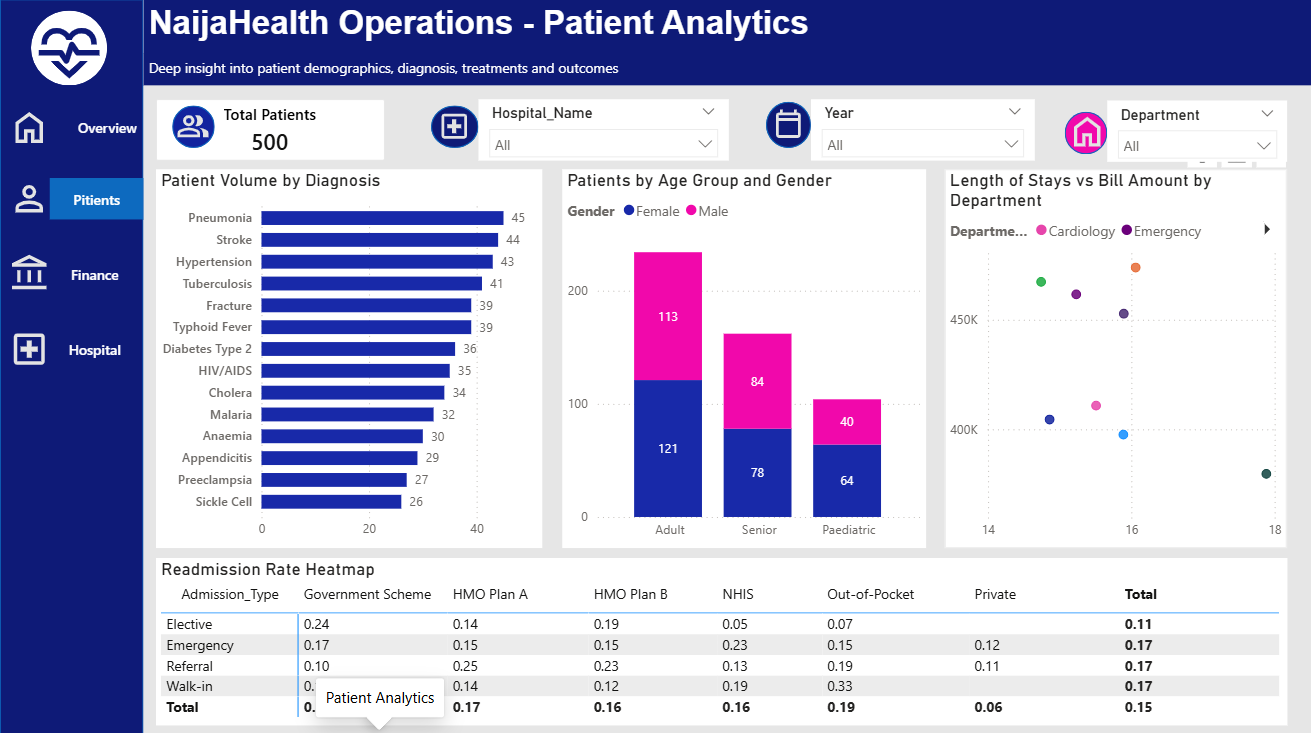

What the dashboard file says about the page in this screenshot:
{"tool":"powerbi","page":{"name":"Patient Analytics","canvas":[1280,720],"ordinal":1},"visuals":[{"type":"textbox","box":[152,10.9,1128,51.9],"z":0},{"type":"shape","box":[13.3,10.9,138.7,709.4],"z":1000},{"type":"shape","box":[43.4,21.7,73.6,72.4],"z":2000},{"type":"image","box":[48.3,16.9,63.9,91.7],"z":3000},{"type":"textbox","box":[152,62.7,1128,31.4],"z":4000},{"type":"actionButton","box":[61.5,183.4,90.5,39.8],"z":5000},{"type":"actionButton","box":[61.5,255.8,86.9,39.8],"z":6000},{"type":"actionButton","box":[61.5,324.5,86.9,48.3],"z":7000},{"type":"image","box":[21.7,114.6,39.8,39.8],"z":8000},{"type":"image","box":[21.7,183.4,39.8,39.8],"z":9000},{"type":"image","box":[21.7,324.5,39.8,48.3],"z":10000},{"type":"image","box":[21.7,255.8,39.8,39.8],"z":11000},{"type":"clusteredBarChart","title":"Patient Volume by Diagnosis","fields":{"Category":["Patient_Records.Diagnosis"],"Y":["CountNonNull(Patient_Records.Patient_ID)"]},"box":[164.1,174.9,372.8,365.6],"z":12000},{"type":"columnChart","title":"Patients by Age Group and Gender","fields":{"Category":["Patient_Records.Age_Group"],"Series":["Patient_Records.Gender"],"Y":["CountNonNull(Patient_Records.Patient_ID)"]},"box":[556.2,174.9,351.1,365.6],"z":13000},{"type":"scatterChart","title":"Length of Stays vs Bill Amount by Department","fields":{"X":["Avg(Patient_Records.Length_of_Stay_Days)"],"Y":["Avg(Patient_Records.Bill_Amount_NGN)"],"Series":["Patient_Records.Department"],"Category":["Patient_Records.Department"]},"box":[925.3,174.9,330.6,365.6],"z":14000},{"type":"pivotTable","title":"Readmission Rate Heatmap","fields":{"Rows":["Patient_Records.Admission_Type"],"Columns":["Patient_Records.Insurance_Provider"],"Values":["> Measures.Readmission Rate"]},"box":[164.1,550.1,1091.8,161.7],"z":15000},{"type":"actionButton","box":[73.6,114.6,86.9,39.8],"z":16000},{"type":"slicer","fields":{"Values":["Hospital.Hospital_Name"]},"box":[475.3,107.4,241.3,59.1],"z":17000},{"type":"slicer","fields":{"Values":["DateTable.Year"]},"box":[796.3,107.4,216,59.1],"z":18000},{"type":"slicer","fields":{"Values":["Staff_Operations.Department"]},"box":[1082.2,108.6,173.7,59.1],"z":19000},{"type":"shape","box":[1041.2,119.4,41,41],"z":20000},{"type":"image","box":[1043.6,119.4,38.6,38.6],"z":21000},{"type":"shape","box":[429.5,113.4,45.8,41],"z":22000},{"type":"shape","box":[752.8,109.8,43.4,44.6],"z":23000},{"type":"image","box":[755.2,114.6,38.6,32.6],"z":24000},{"type":"image","box":[435.5,113.4,32.6,39.8],"z":25000},{"type":"cardVisual","fields":{"Data":["> Measures.Total Patients"]},"box":[164.1,107.4,220.8,59.1],"z":26000},{"type":"shape","box":[179.8,113.4,41,41],"z":27000},{"type":"image","box":[183.4,113.4,32.6,39.8],"z":28000}]}

Visuals, with their boxes on the page's 1280x720 design canvas (x1, y1, x2, y2). These are canvas units, not pixel positions in the 1311x733 screenshot, which may show the page scaled, cropped or inside an application window:
textbox: 152:11:1280:63
shape: 13:11:152:720
shape: 43:22:117:94
image: 48:17:112:109
textbox: 152:63:1280:94
actionButton: 62:183:152:223
actionButton: 62:256:148:296
actionButton: 62:324:148:373
image: 22:115:62:154
image: 22:183:62:223
image: 22:324:62:373
image: 22:256:62:296
"Patient Volume by Diagnosis" clusteredBarChart: 164:175:537:540
"Patients by Age Group and Gender" columnChart: 556:175:907:540
"Length of Stays vs Bill Amount by Department" scatterChart: 925:175:1256:540
"Readmission Rate Heatmap" pivotTable: 164:550:1256:712
actionButton: 74:115:160:154
slicer - Hospital.Hospital_Name: 475:107:717:166
slicer - DateTable.Year: 796:107:1012:166
slicer - Staff_Operations.Department: 1082:109:1256:168
shape: 1041:119:1082:160
image: 1044:119:1082:158
shape: 430:113:475:154
shape: 753:110:796:154
image: 755:115:794:147
image: 436:113:468:153
cardVisual - > Measures.Total Patients: 164:107:385:166
shape: 180:113:221:154
image: 183:113:216:153
